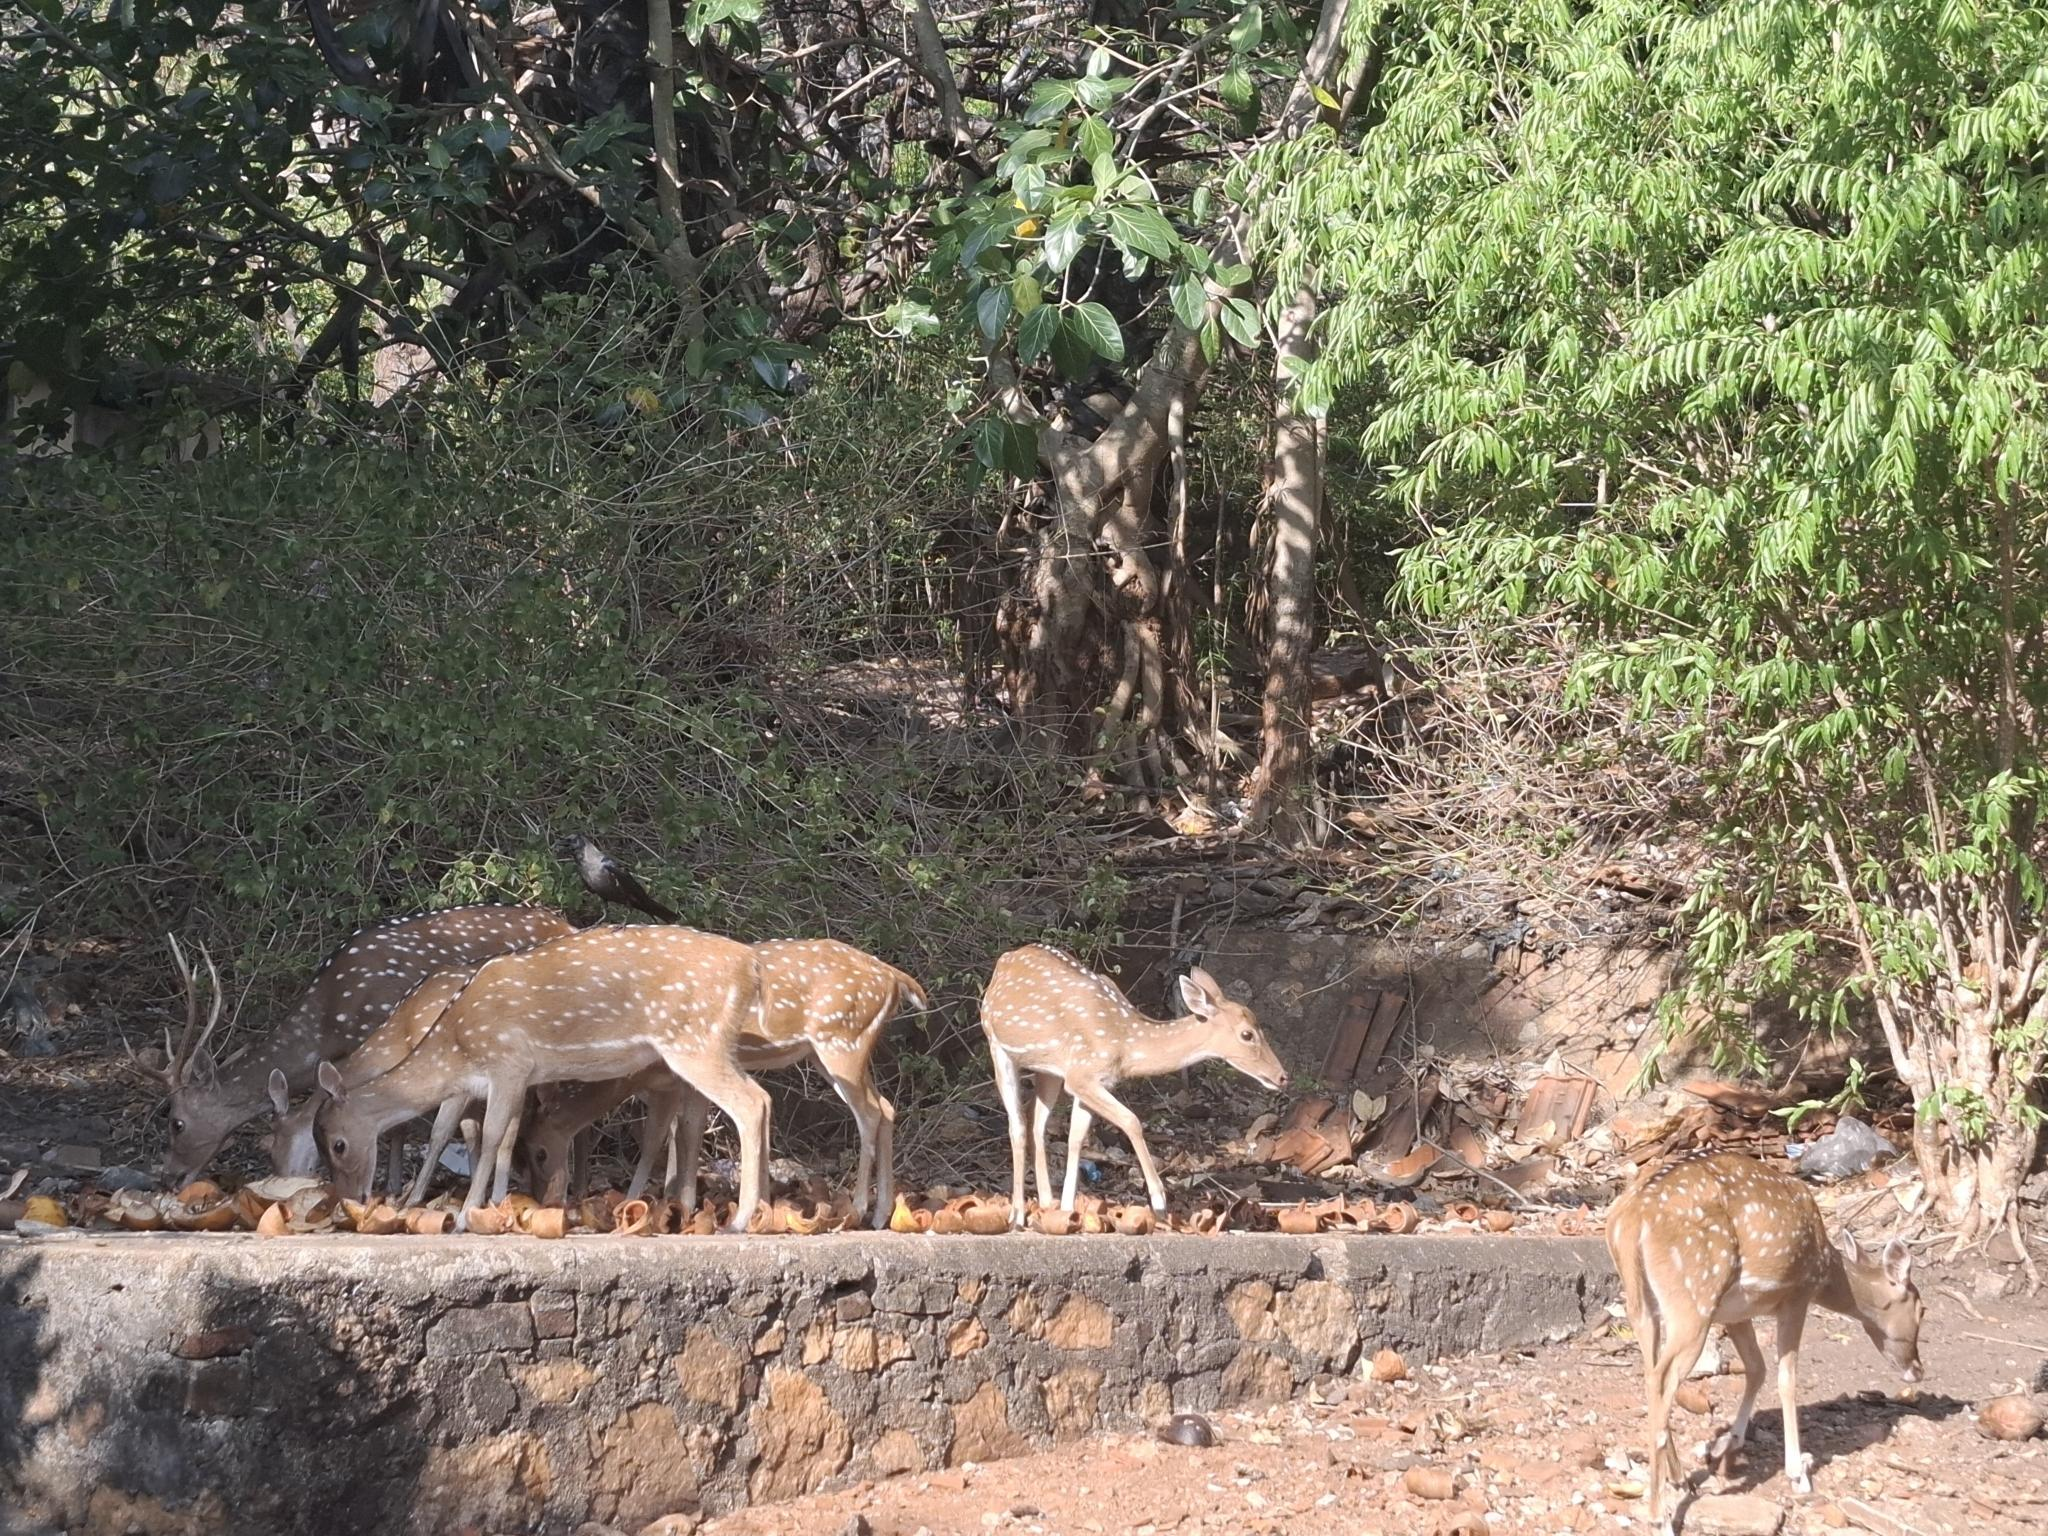Deer: (319, 925, 769, 1229), (148, 907, 576, 1184), (1606, 1154, 1922, 1521), (980, 944, 1285, 1226), (276, 1105, 316, 1173)
